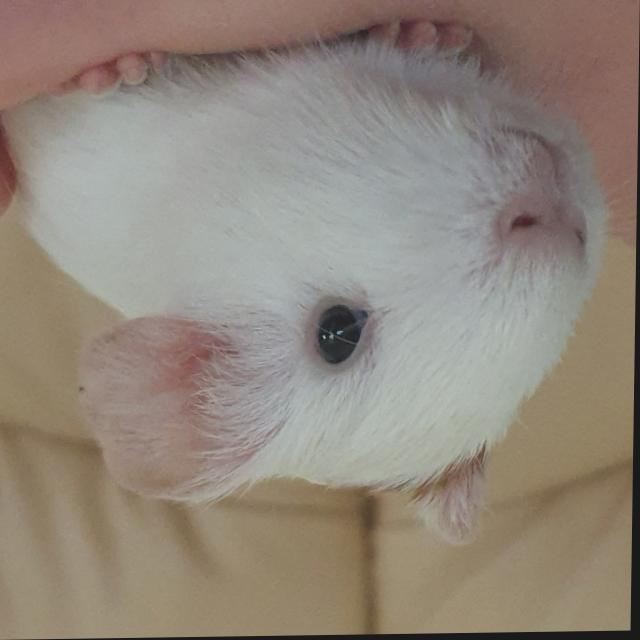guinea pig: (0, 14, 613, 554)
